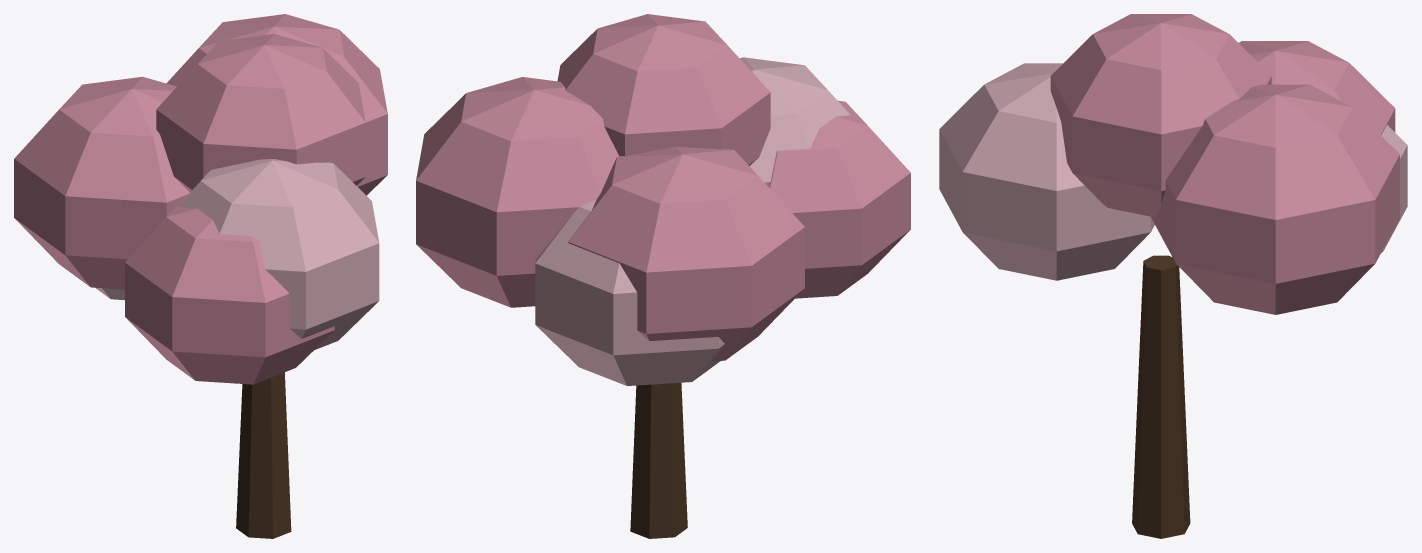
File: blossom-tree.glb
The picture shows the model from 3 angles, left to right: view 1: azimuth 30°, elevation 25°; view 2: azimuth 150°, elevation 25°; view 3: azimuth 270°, elevation 25°; orthographic projection. The views are drawn at different scales.
Parts seen in each view (by area): view 1: blossom-tree; view 2: blossom-tree; view 3: blossom-tree.
Part boxes in pixels (x1,y1,x2,y2): blossom-tree: [14, 14, 387, 538]; blossom-tree: [416, 14, 910, 538]; blossom-tree: [939, 14, 1407, 538].
Bounding box in the file's own units: 4.93 × 6.68 × 5.63.
